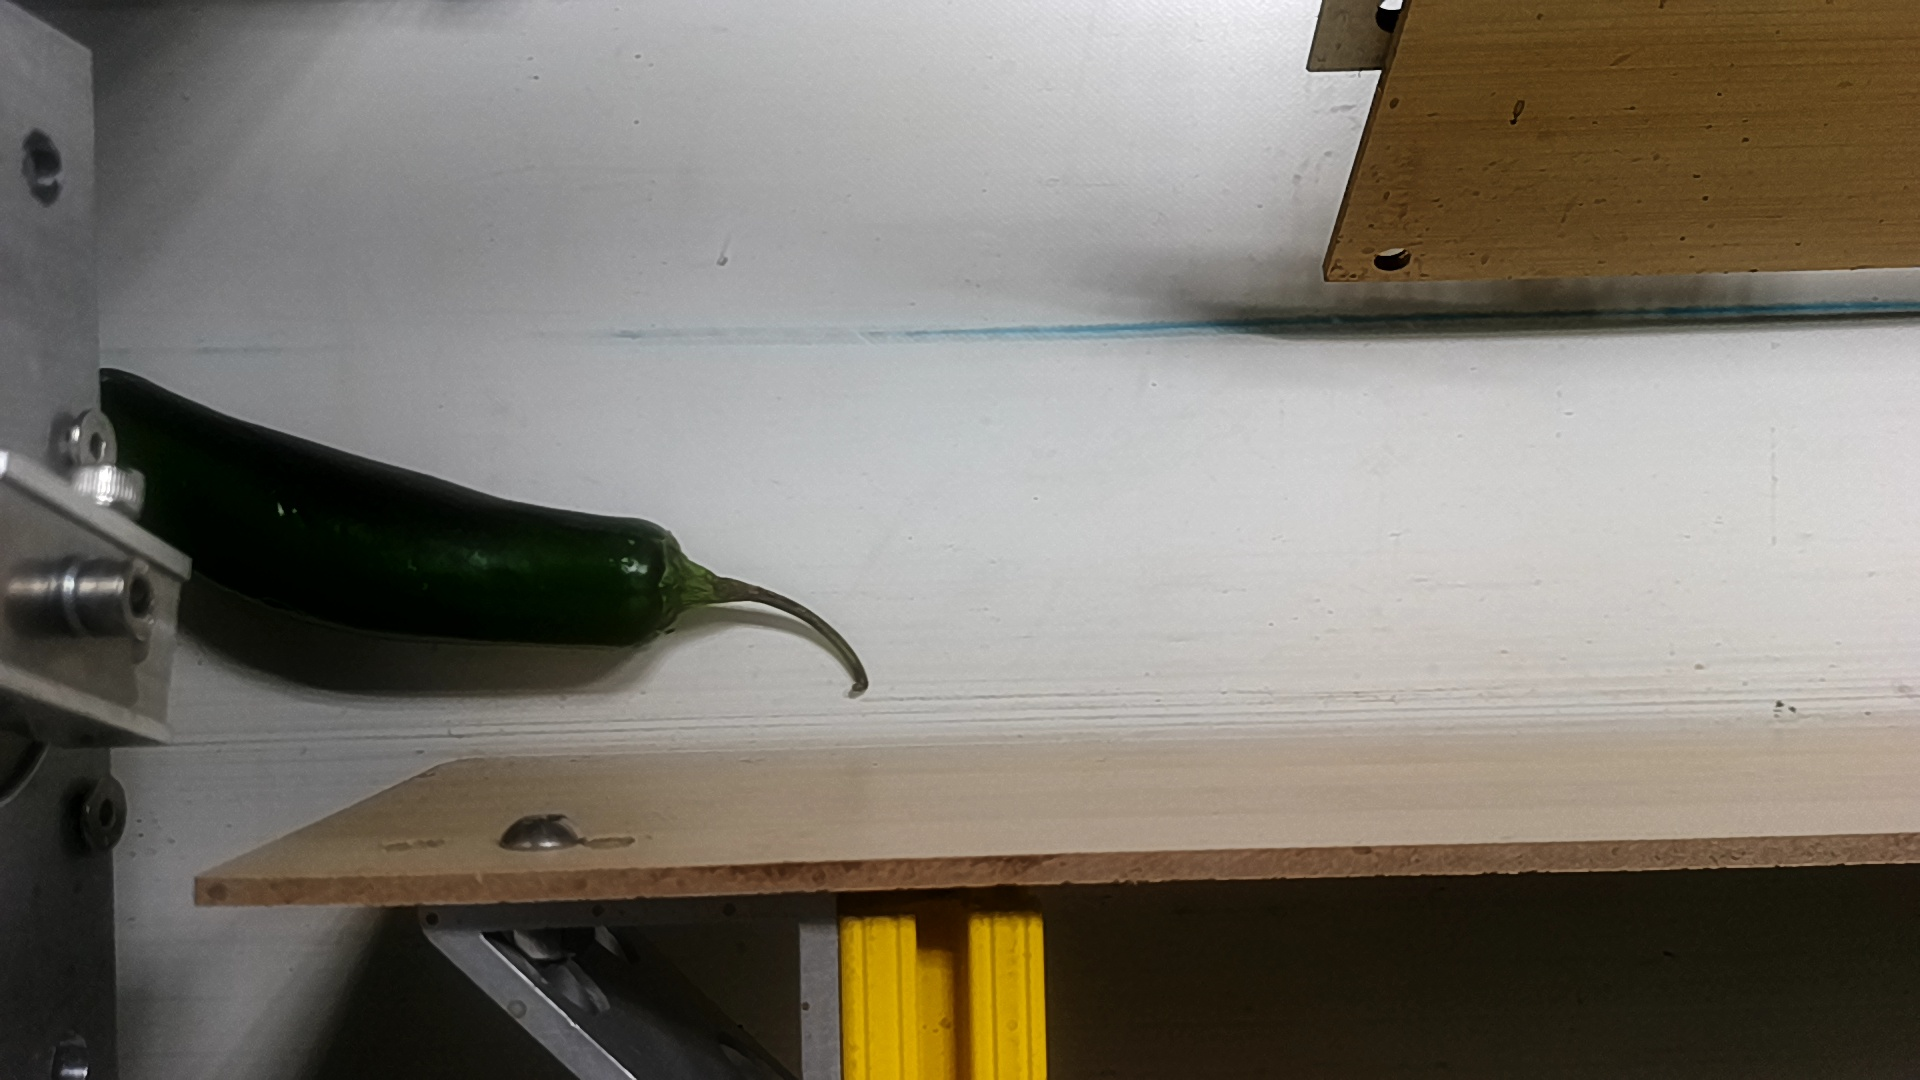Cut Point: (592, 513, 731, 655)
